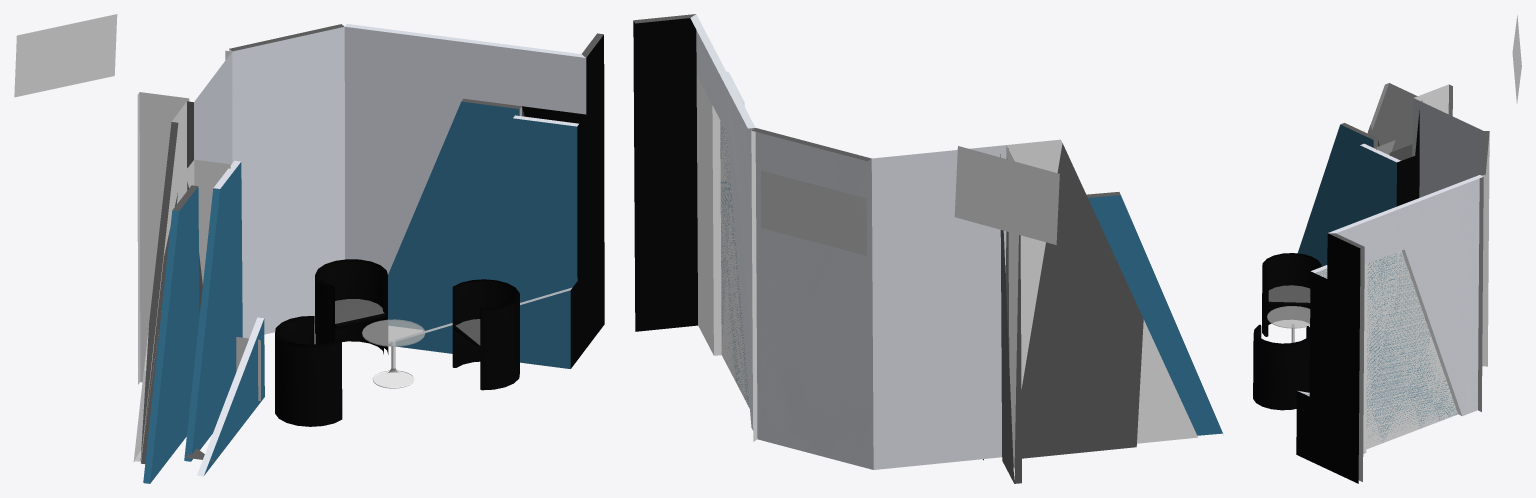
3 views of the same model, side by side, from view 1: azimuth 30°, elevation 25°; view 2: azimuth 150°, elevation 25°; view 3: azimuth 270°, elevation 25° (orthographic). The views are drawn at different scales.
Visible parts, largest first — view 1: SketchUp, group_0, oneTechLogo, group_1, group_2; view 2: SketchUp, oneTechLogo, image_6; view 3: SketchUp, group_0, group_1, oneTechLogo.
Boxes of the visible parts, x1,y1,x2,y2 form: SketchUp: (133,24,604,483); group_0: (275,259,519,426); oneTechLogo: (14,14,117,97); group_1: (362,319,425,346); group_2: (372,340,414,388); SketchUp: (633,14,1222,483); oneTechLogo: (954,146,1059,244); image_6: (761,170,866,255); SketchUp: (1296,83,1489,483); group_0: (1253,253,1321,410); group_1: (1267,306,1310,328); oneTechLogo: (1512,15,1521,103).
Size of the model in its own units: 154 by 99.9 by 87.24.
